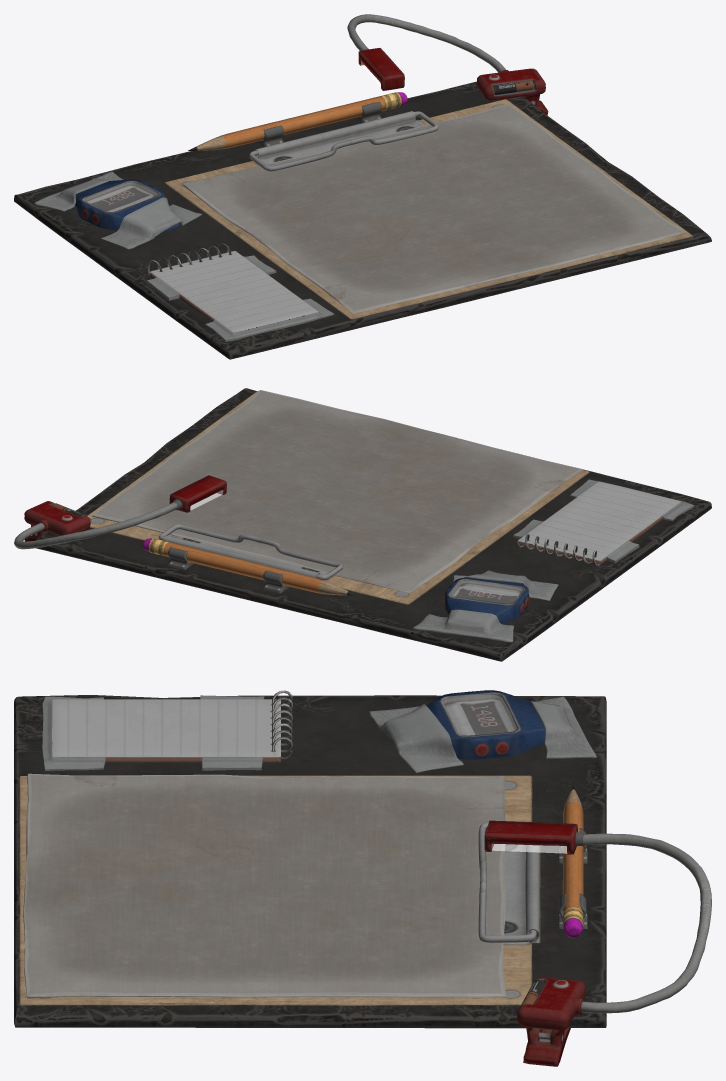
3 views of the same model, one above another, from view 1: azimuth 30°, elevation 25°; view 2: azimuth 150°, elevation 25°; view 3: azimuth 270°, elevation 25° (orthographic). The views are drawn at different scales.
Visible parts, largest first — view 1: Object_7, Object_5, Object_3; view 2: Object_7, Object_5, Object_3; view 3: Object_7, Object_5, Object_3.
Boxes of the visible parts, x1=… form: Object_7: x1=14, y1=14, x2=711, y2=359; Object_5: x1=188, y1=92, x2=407, y2=150; Object_3: x1=85, y1=183, x2=157, y2=211; Object_7: x1=14, y1=388, x2=711, y2=661; Object_5: x1=143, y1=538, x2=356, y2=595; Object_3: x1=451, y1=581, x2=522, y2=603; Object_7: x1=14, y1=690, x2=711, y2=1066; Object_5: x1=562, y1=786, x2=583, y2=937; Object_3: x1=443, y1=695, x2=516, y2=735.
Size of the model in its own units: 0.5931 by 0.103 by 0.5132.
Materials: 6 (4 with a texture image).
